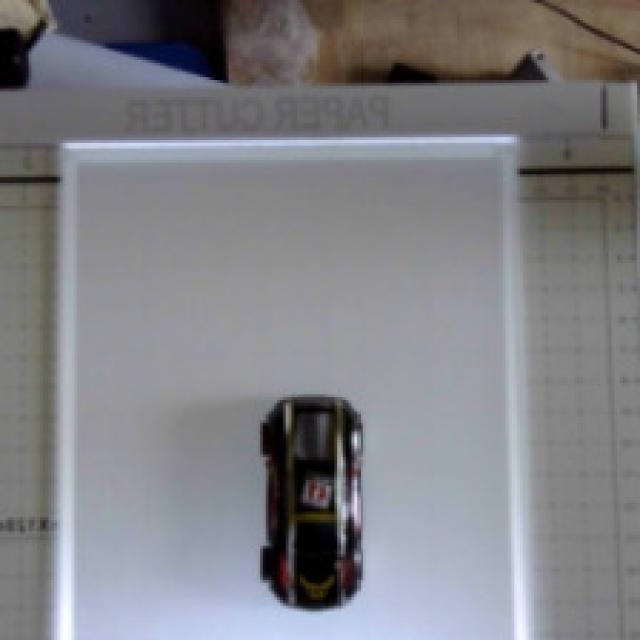Red Car: (213, 355, 424, 634)
